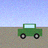vehicle: (18, 24, 42, 39)
